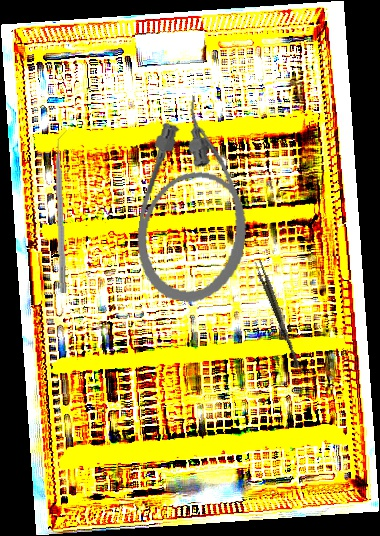Cannula: (129, 90, 264, 309)
Chopper: (54, 129, 75, 294)
Tissue Forceps: (252, 259, 304, 369)
